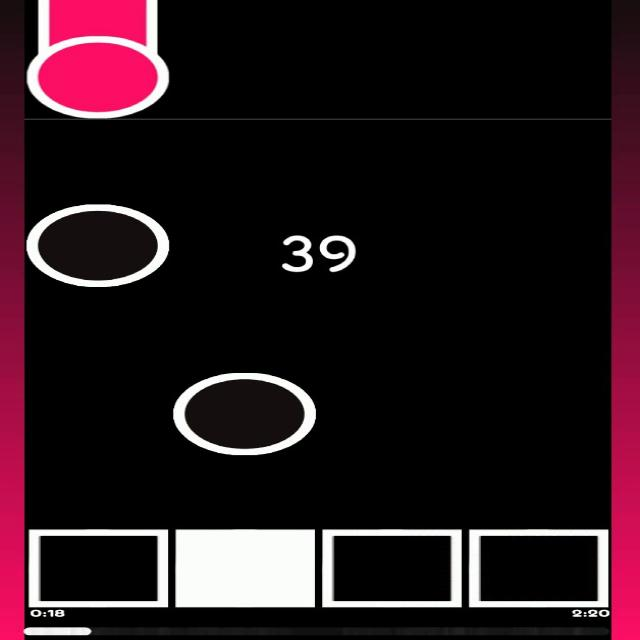note: (174, 371, 315, 456), (29, 202, 167, 287)
start_hold: (27, 20, 167, 119)
